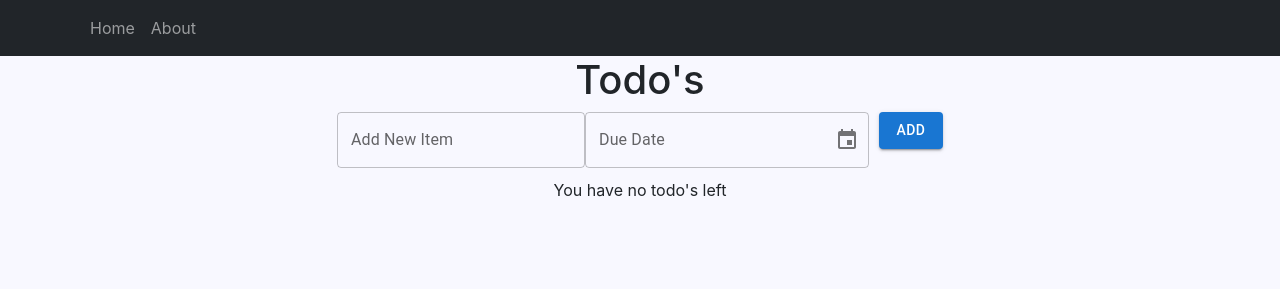
Test: test that App component doesn't add a task without due date
The width and height of the screenshot is (1280, 289).
Type "History Test" into the field labelled "Add New Item".
click(461, 140); type("History Test")  # box [337,112,585,168]
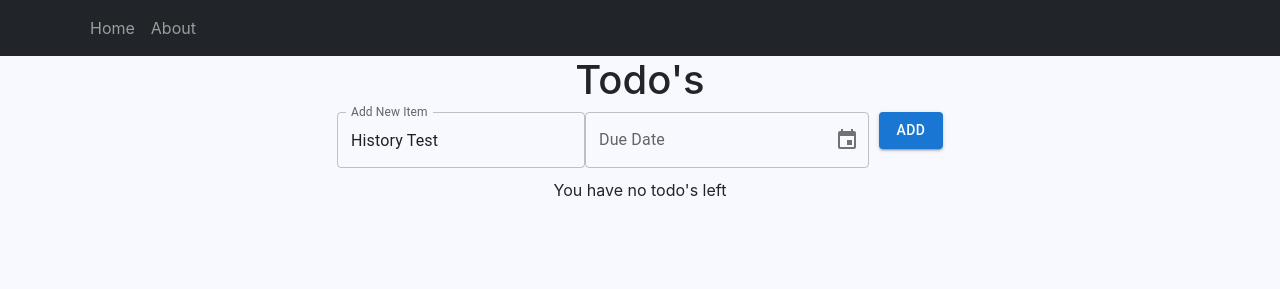
Click the button "Add".
click(911, 130)  # box [879,112,943,148]
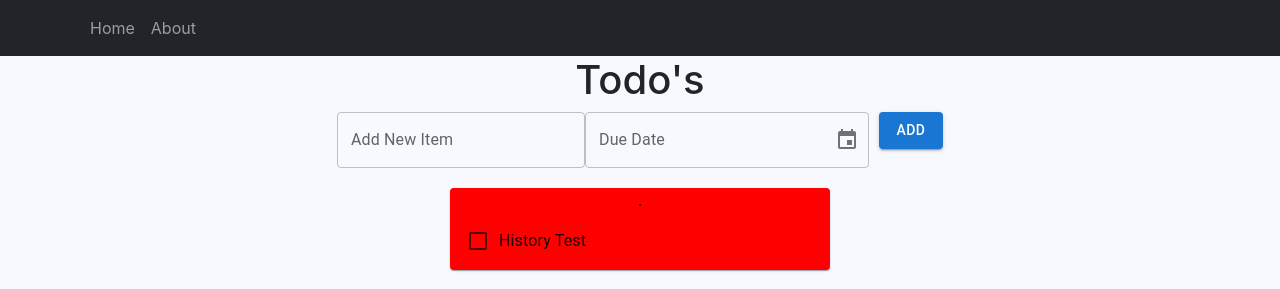
Now the text "History Test" is shown, box [499,231,586,250]
